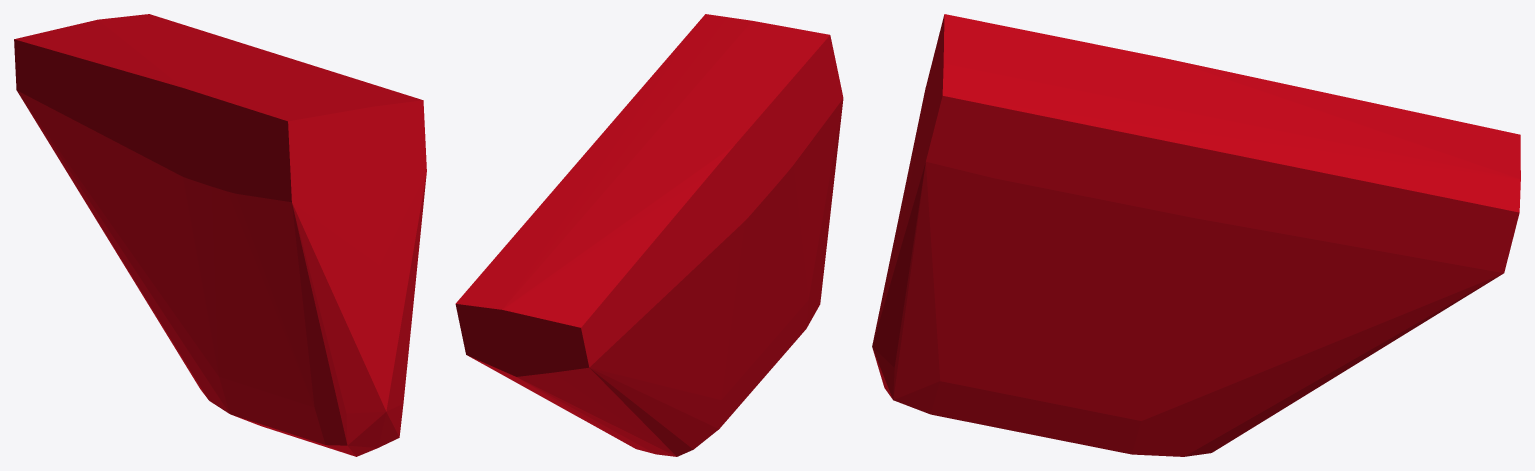
File: converted_Downdraft_Assy_collision_70_c90215ff.obj
3 renders of one model, left to right at view 1: azimuth 30°, elevation 25°; view 2: azimuth 150°, elevation 25°; view 3: azimuth 270°, elevation 25°, orthographic. The views are drawn at different scales.
Bounding box in the file's own units: 0.0509 × 0.1314 × 0.1897.
